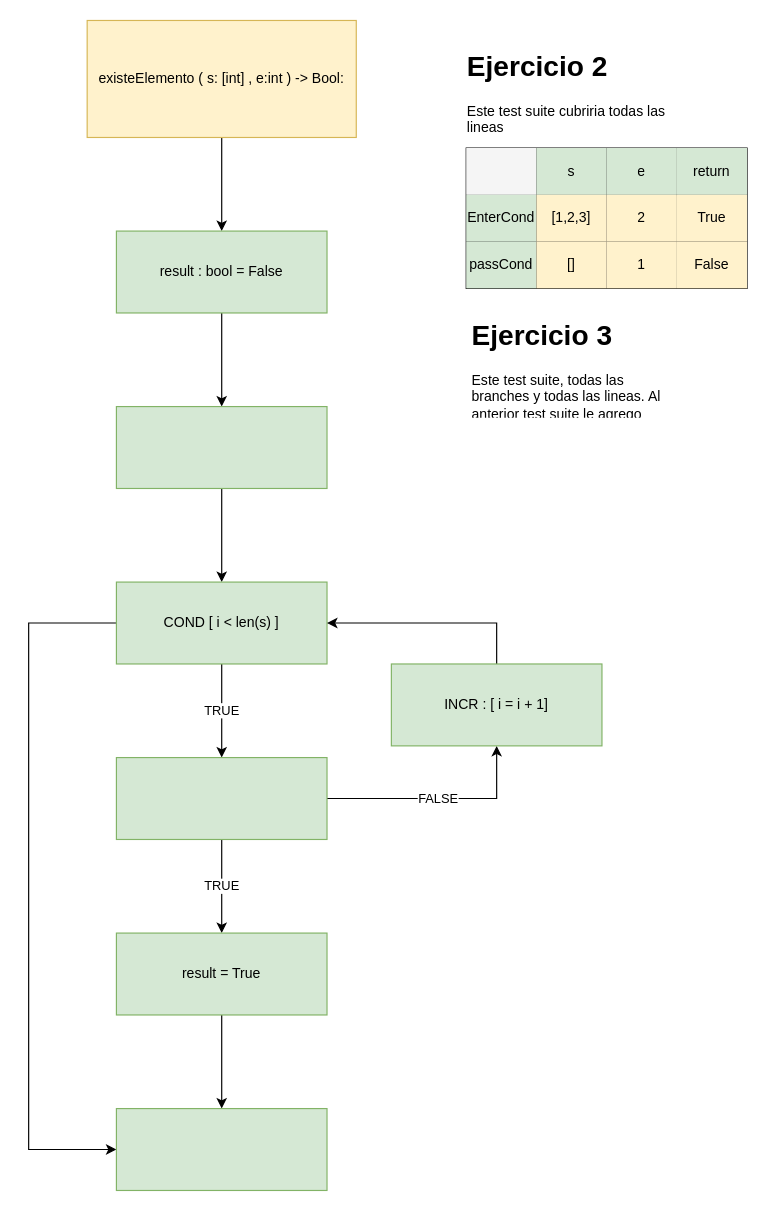
The diagram is 768 pixels wide and 1211 high, and some of its shapes have lost their labels. Each missing label, with the box of its shape:
if s [i] == e: (115, 756, 327, 839)
INIT : i = 0: (115, 405, 327, 488)
return result: (115, 1107, 327, 1190)
